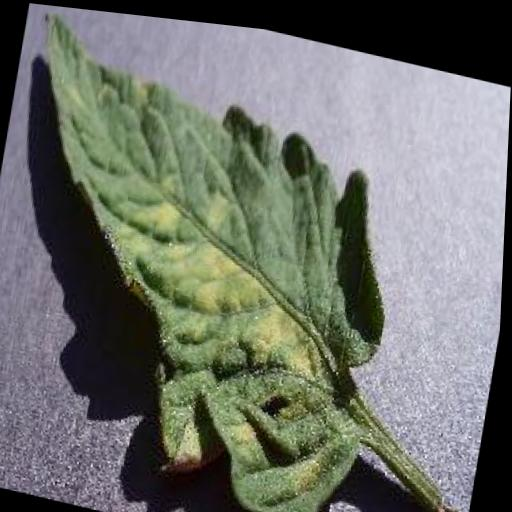Leaf Mold: (0, 5, 424, 512)
